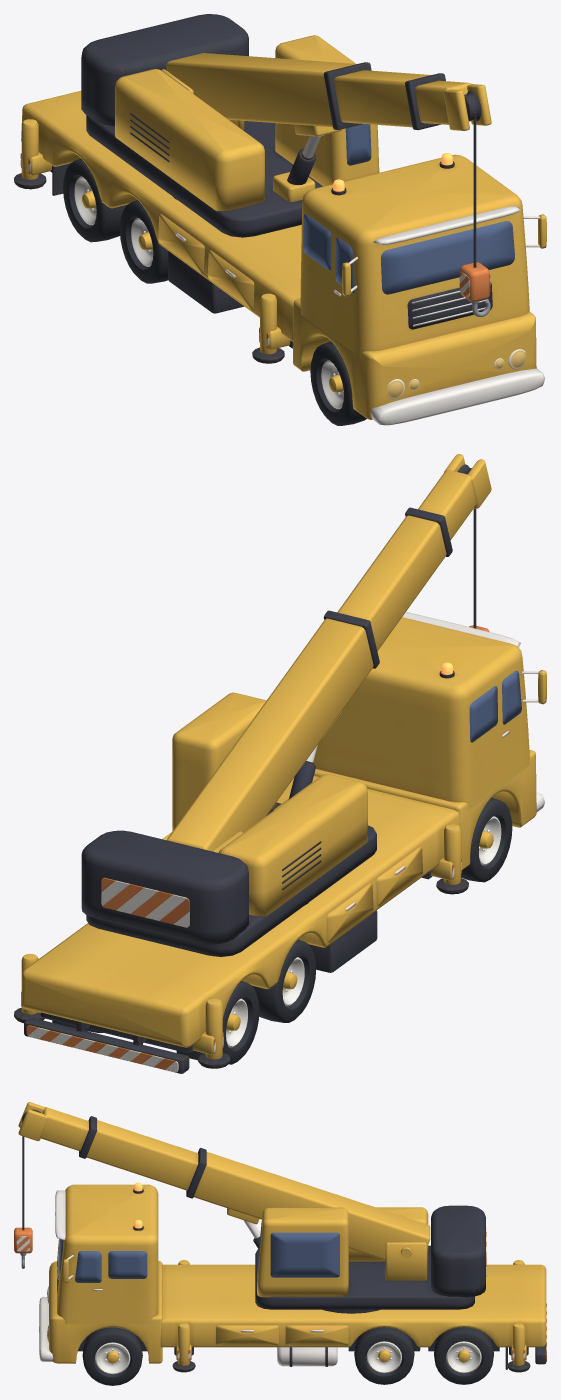
File: crane-truck.glb
3 renders of one model, top to bottom at view 1: azimuth 30°, elevation 25°; view 2: azimuth 150°, elevation 25°; view 3: azimuth 270°, elevation 25°, orthographic. The views are drawn at different scales.
Parts seen in each view (by area): view 1: crane-truck_body, crane-truck_upper, crane-truck_boom, crane-truck_windows, crane-truck_wheel_r2r, crane-truck_wheel_fr, crane-truck_wheel_r1r, crane-truck_hook, crane-truck_upper_windows, crane-truck_headlights; view 2: crane-truck_body, crane-truck_upper, crane-truck_boom, crane-truck_wheel_r1r, crane-truck_wheel_fr, crane-truck_wheel_r2r, crane-truck_windows; view 3: crane-truck_body, crane-truck_upper, crane-truck_boom, crane-truck_upper_windows, crane-truck_wheel_fl, crane-truck_wheel_r1l, crane-truck_wheel_r2l, crane-truck_windows, crane-truck_hook.
Part boxes in pixels (left/top/right/bottom): crane-truck_body: left=14, top=91, right=546, bottom=425; crane-truck_upper: left=81, top=14, right=379, bottom=237; crane-truck_boom: left=166, top=53, right=491, bottom=157; crane-truck_windows: left=303, top=214, right=514, bottom=294; crane-truck_wheel_r2r: left=63, top=158, right=126, bottom=242; crane-truck_wheel_fr: left=310, top=341, right=366, bottom=425; crane-truck_wheel_r1r: left=119, top=200, right=168, bottom=283; crane-truck_hook: left=459, top=112, right=490, bottom=316; crane-truck_upper_windows: left=345, top=124, right=371, bottom=165; crane-truck_headlights: left=387, top=349, right=526, bottom=399; crane-truck_body: left=14, top=612, right=546, bottom=1073; crane-truck_upper: left=81, top=692, right=376, bottom=956; crane-truck_boom: left=167, top=454, right=491, bottom=851; crane-truck_wheel_r1r: left=252, top=939, right=316, bottom=1022; crane-truck_wheel_fr: left=461, top=797, right=512, bottom=882; crane-truck_wheel_r2r: left=222, top=981, right=259, bottom=1064; crane-truck_windows: left=469, top=670, right=521, bottom=742; crane-truck_body: left=39, top=1184, right=546, bottom=1372; crane-truck_upper: left=253, top=1205, right=486, bottom=1313; crane-truck_boom: left=18, top=1102, right=430, bottom=1260; crane-truck_upper_windows: left=258, top=1222, right=339, bottom=1277; crane-truck_wheel_fl: left=82, top=1327, right=142, bottom=1385; crane-truck_wheel_r1l: left=354, top=1327, right=414, bottom=1384; crane-truck_wheel_r2l: left=434, top=1327, right=493, bottom=1384; crane-truck_windows: left=60, top=1239, right=147, bottom=1282; crane-truck_hook: left=14, top=1136, right=32, bottom=1268.
Size of the model in its own units: 3.13 by 5.09 by 9.71.
Materials: 6 (6 with a texture image).
